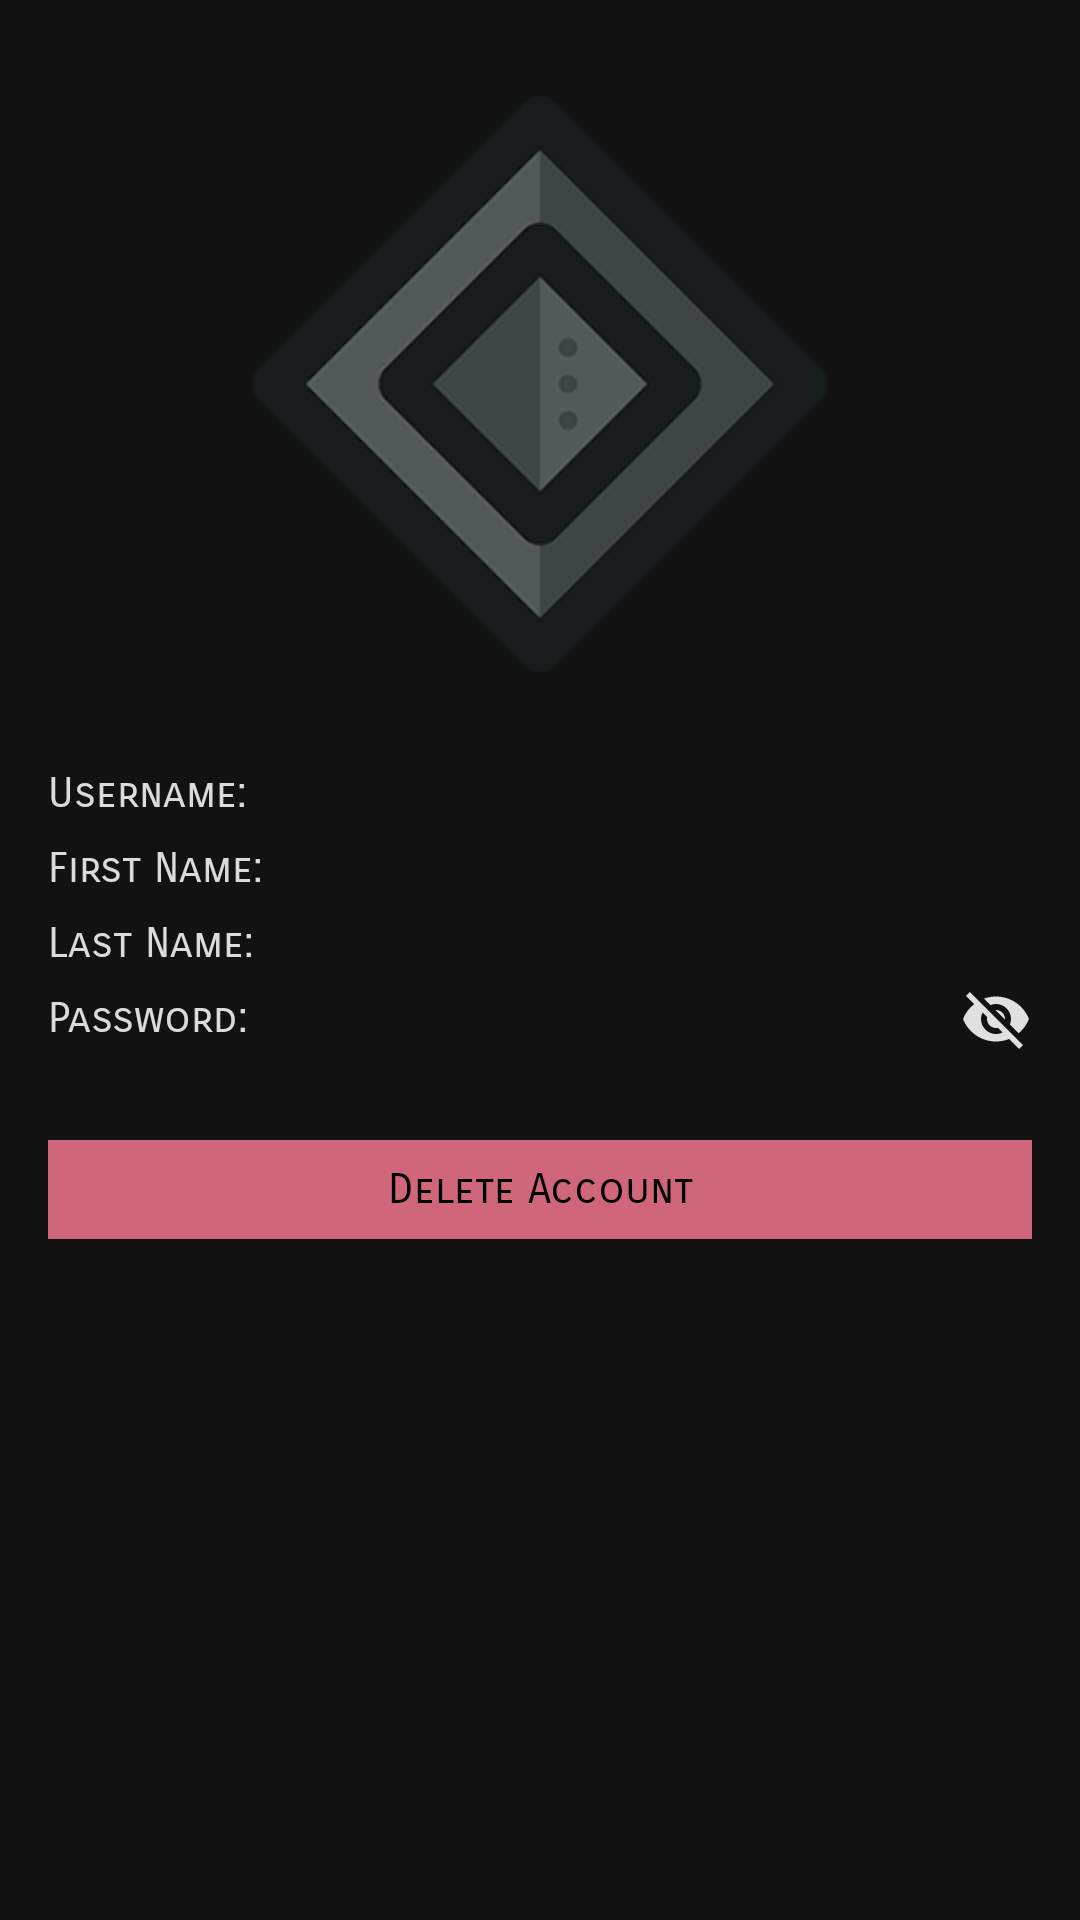

Icons on this 1080*1920 Android screen, each with the point to tap as (x,y):
password off: (996,1020)
